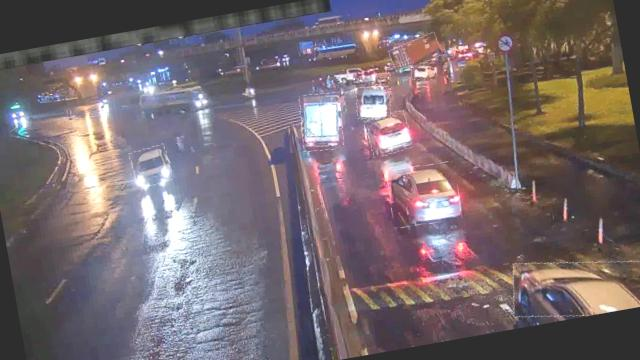Bus: (296, 90, 347, 153), (353, 82, 393, 121), (410, 59, 439, 81)
Car: (507, 245, 640, 327), (385, 159, 463, 229), (364, 110, 414, 157), (129, 144, 173, 188)
Truck: (388, 34, 443, 71)
